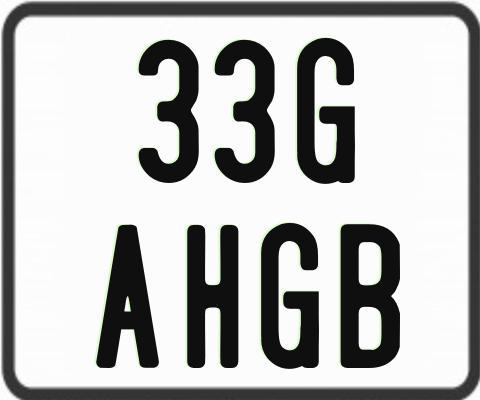3: (139, 38, 205, 187), (215, 37, 281, 184)
A: (93, 224, 161, 368)
B: (339, 224, 399, 370)
G: (260, 220, 318, 371), (296, 36, 354, 185)
H: (187, 222, 242, 368)
